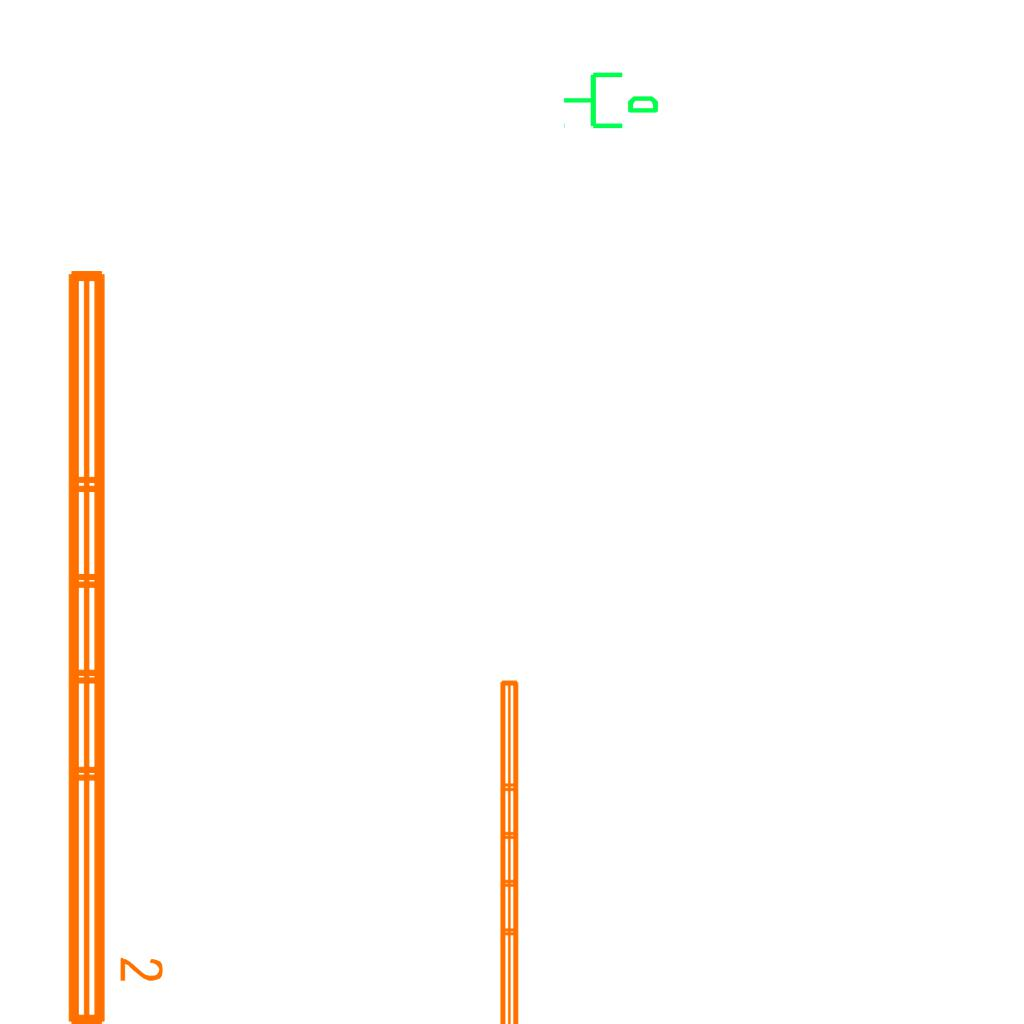Ambulanz_Pendelleuchte_LED: (56, 260, 168, 1024), (494, 675, 550, 1024)
Datenanschluss_einfach: (561, 64, 661, 133)
